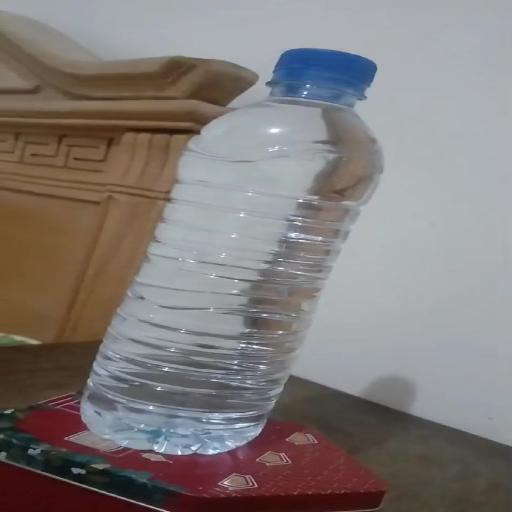bouteille non conformite: (106, 36, 310, 469), (70, 180, 365, 305)
